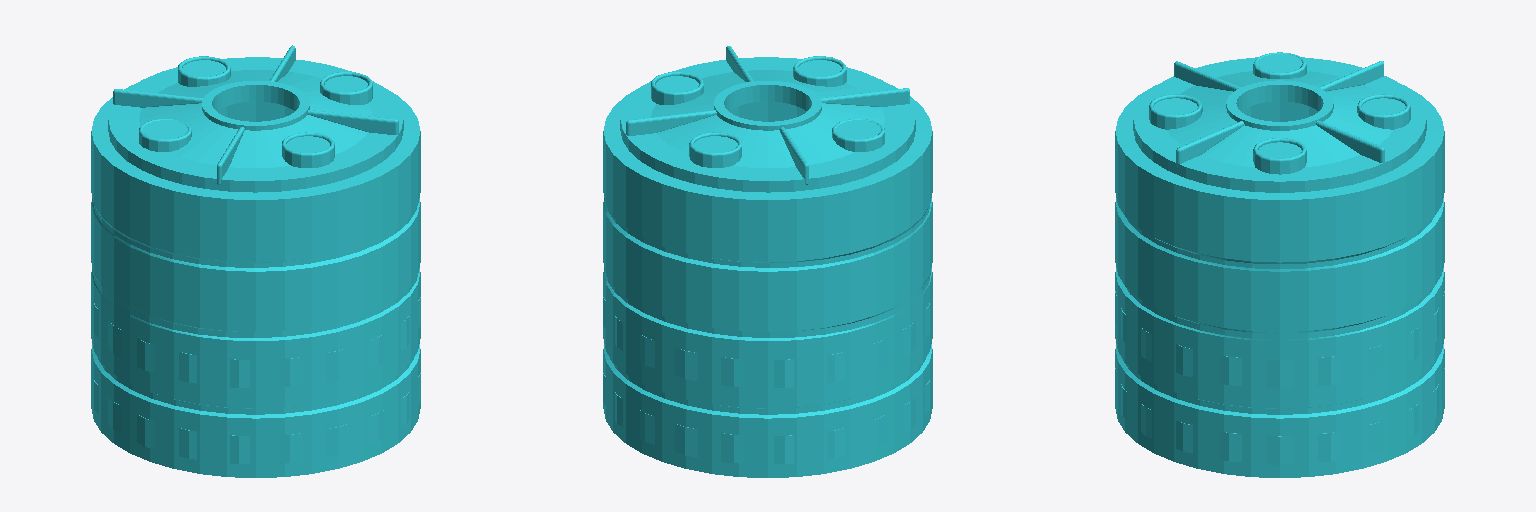
Rendered from plastic_drum_blue.obj.
3 views of the same model, side by side, from view 1: azimuth 30°, elevation 25°; view 2: azimuth 150°, elevation 25°; view 3: azimuth 270°, elevation 25° (orthographic).
Visible parts, largest first — view 1: __, __.1, ___.2, ___.3; view 2: __, __.1, ___, ___.1, ___.3; view 3: __, __.1, ___.2, ___, ___.1, ___.3.
Boxes of the visible parts, x1,y1,x2,y2 form: __: [91, 56, 420, 477]; __.1: [94, 373, 420, 464]; ___.2: [307, 110, 398, 138]; ___.3: [113, 89, 202, 107]; __: [603, 56, 932, 477]; __.1: [603, 373, 929, 464]; ___: [626, 110, 716, 135]; ___.1: [821, 88, 909, 106]; ___.3: [779, 127, 808, 184]; __: [1115, 52, 1444, 477]; __.1: [1115, 368, 1444, 464]; ___.2: [1176, 121, 1244, 168]; ___: [1316, 120, 1384, 162]; ___.1: [1174, 61, 1240, 91]; ___.3: [1319, 61, 1383, 91].
Bounding box in the file's own units: 137 × 140 × 137.